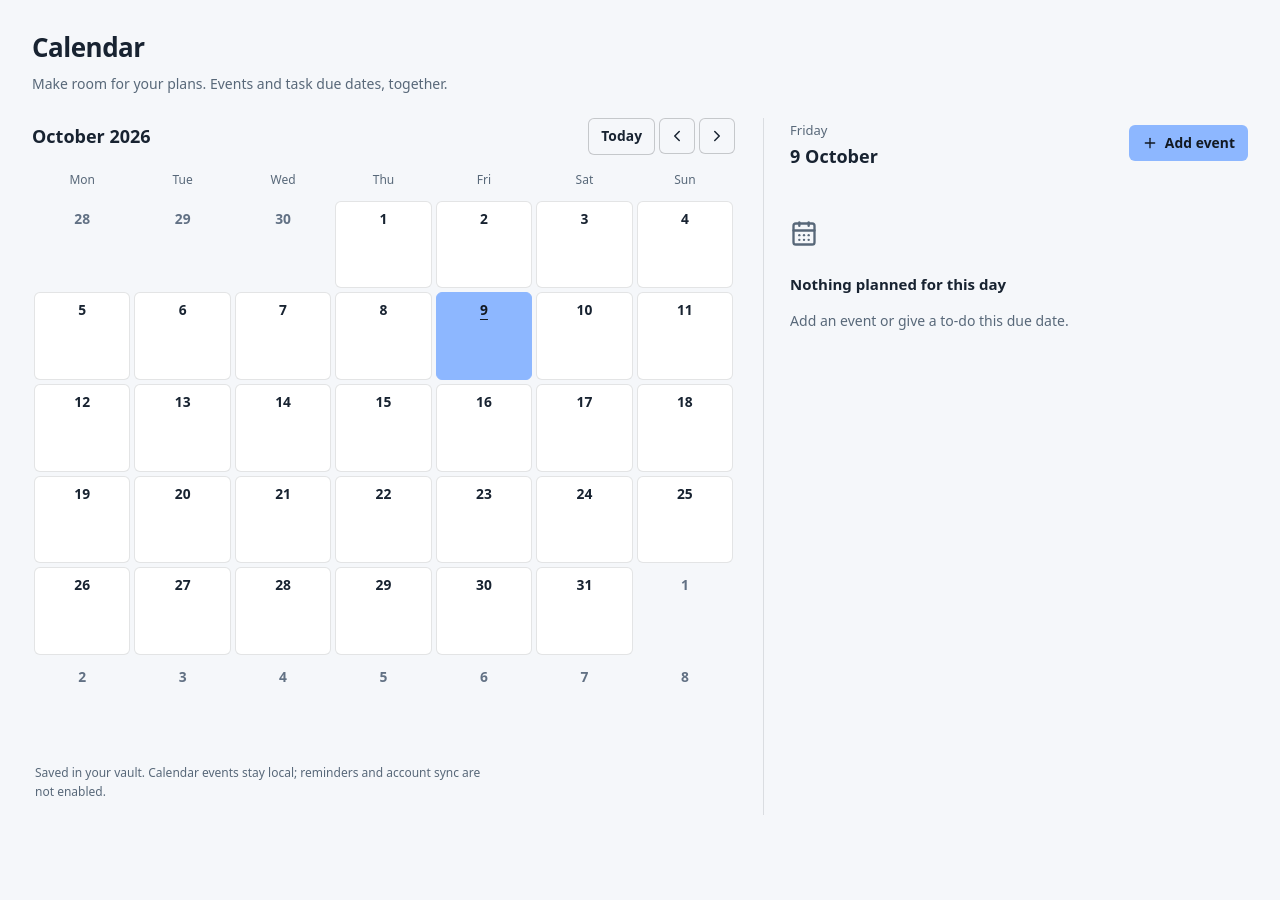
organizer workspace › validates event times and saves a useful calendar entry
Click the button "Add event".
click(1188, 143)  # box [1129,124,1248,161]
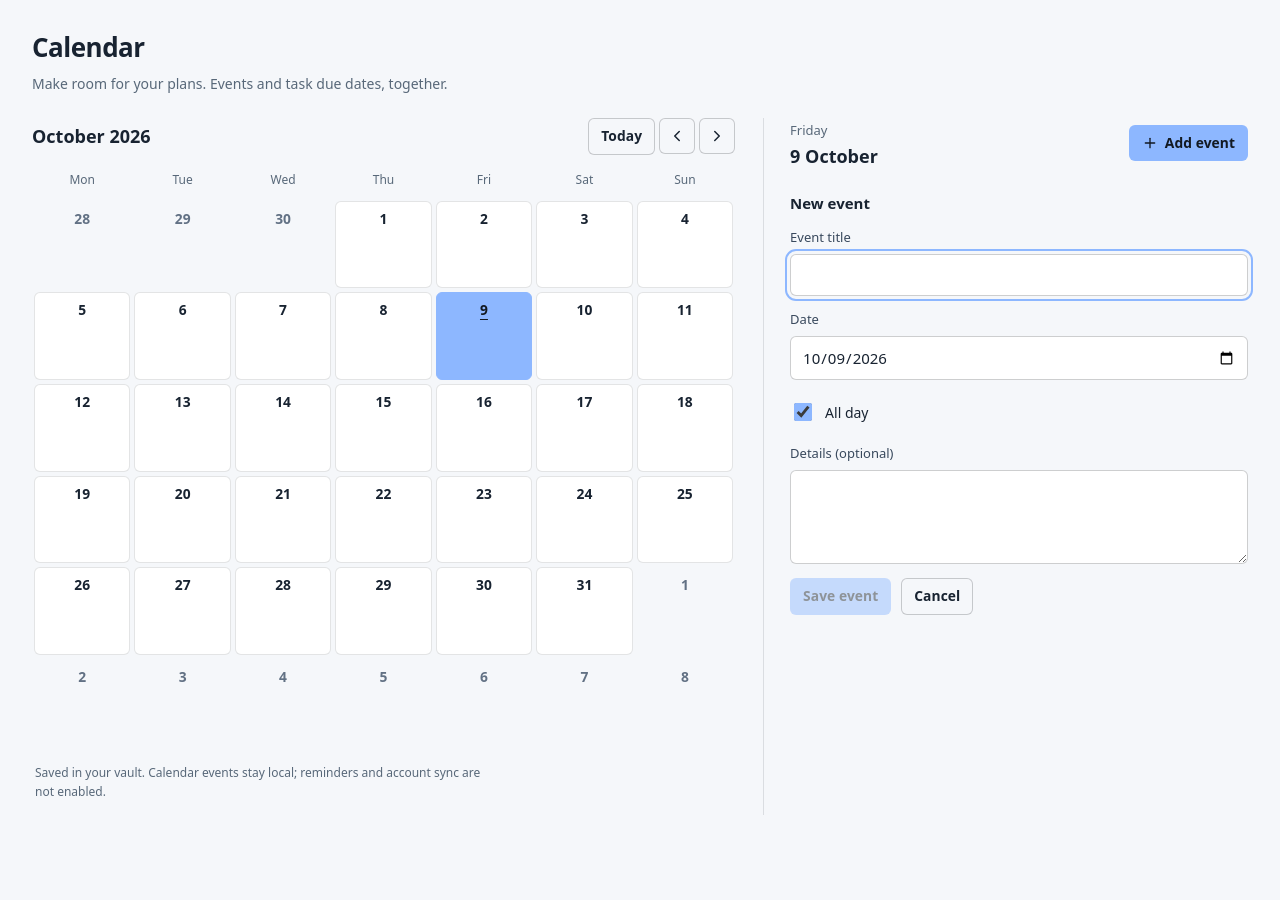
Type "Planning review" into the field labelled "Event title".
click(1019, 275); type("Planning review")  # box [790,254,1248,296]
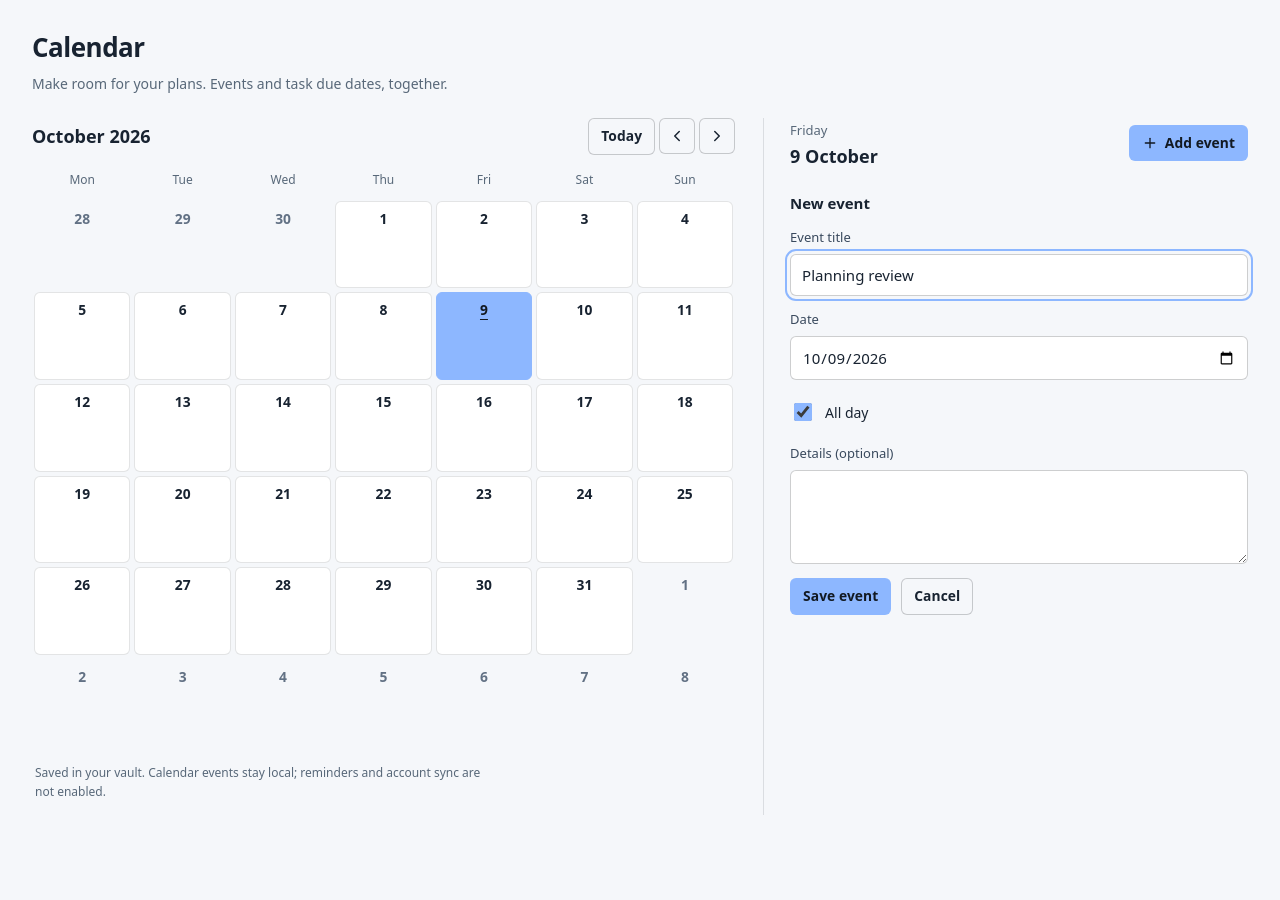
Click the checkbox labelled "All day".
click(803, 412)  # box [794,403,812,421]
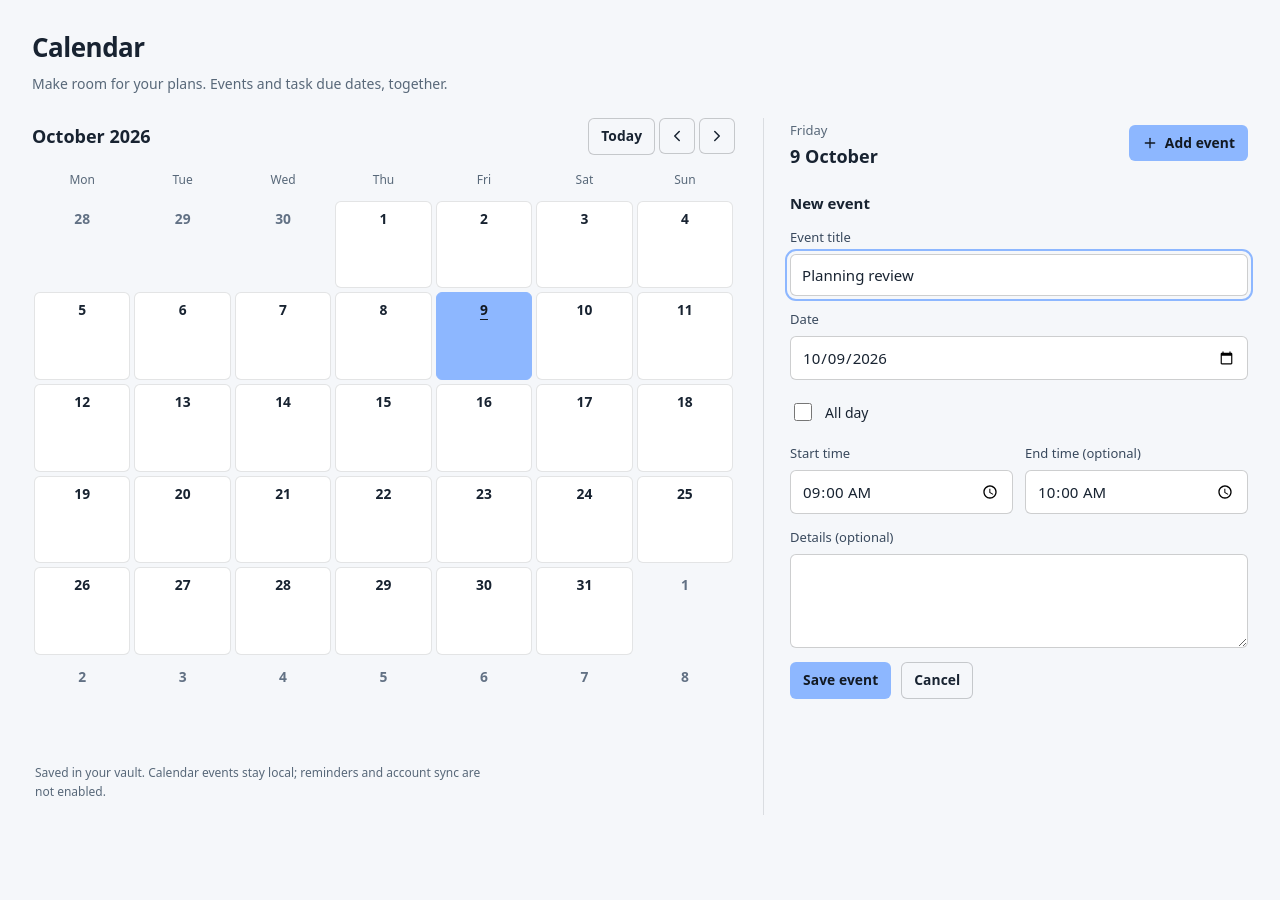
Replace the text in the time field labelled "End time (optional)" with "08:00" at (1136, 492), box [1025,470,1248,514]
Click the button "Save event".
click(841, 680)  # box [790,662,891,699]
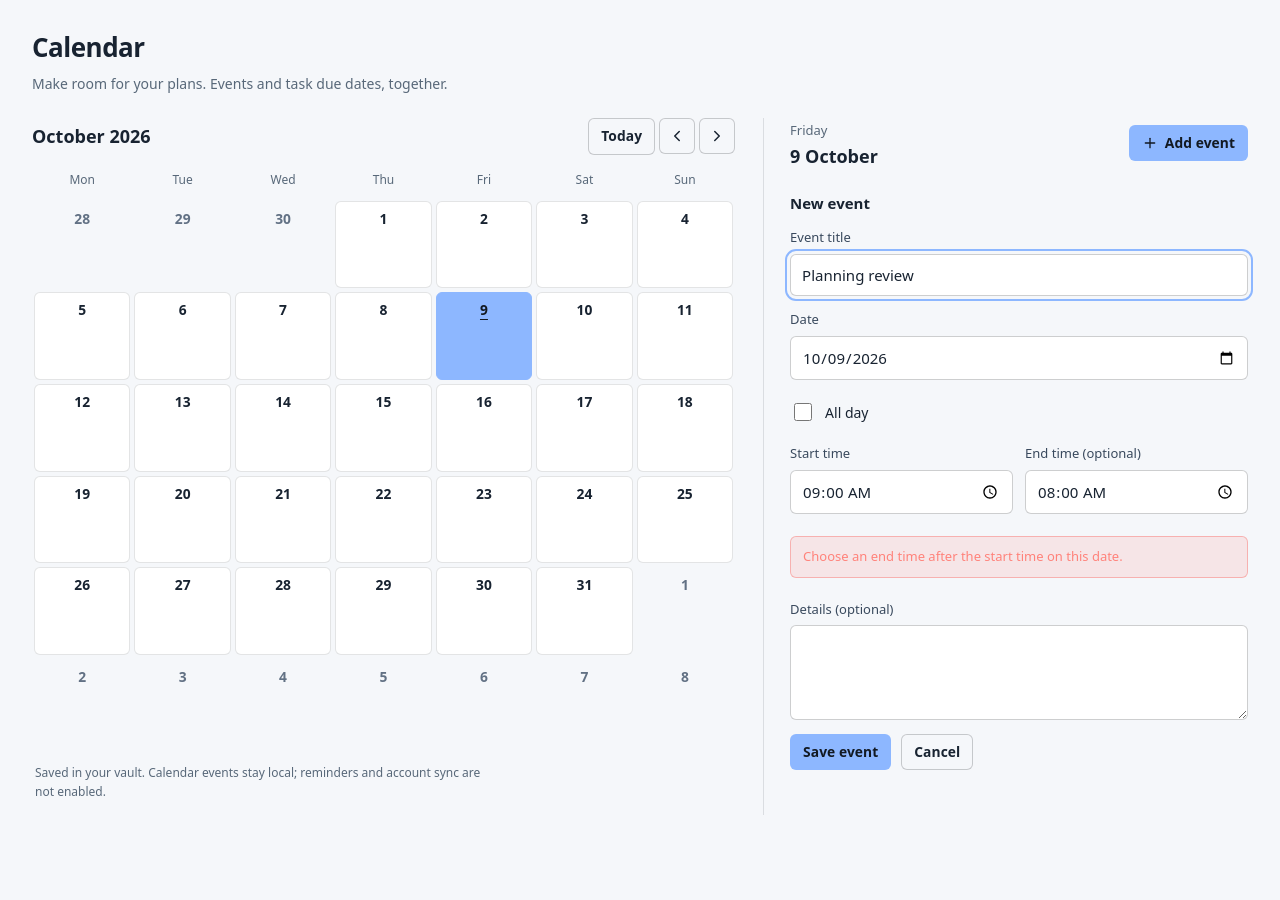
expect the message shows "after the start time": met, box [803,547,1123,565]
Replace the text in the time field labelled "End time (optional)" with "10:30" at (1136, 492), box [1025,470,1248,514]
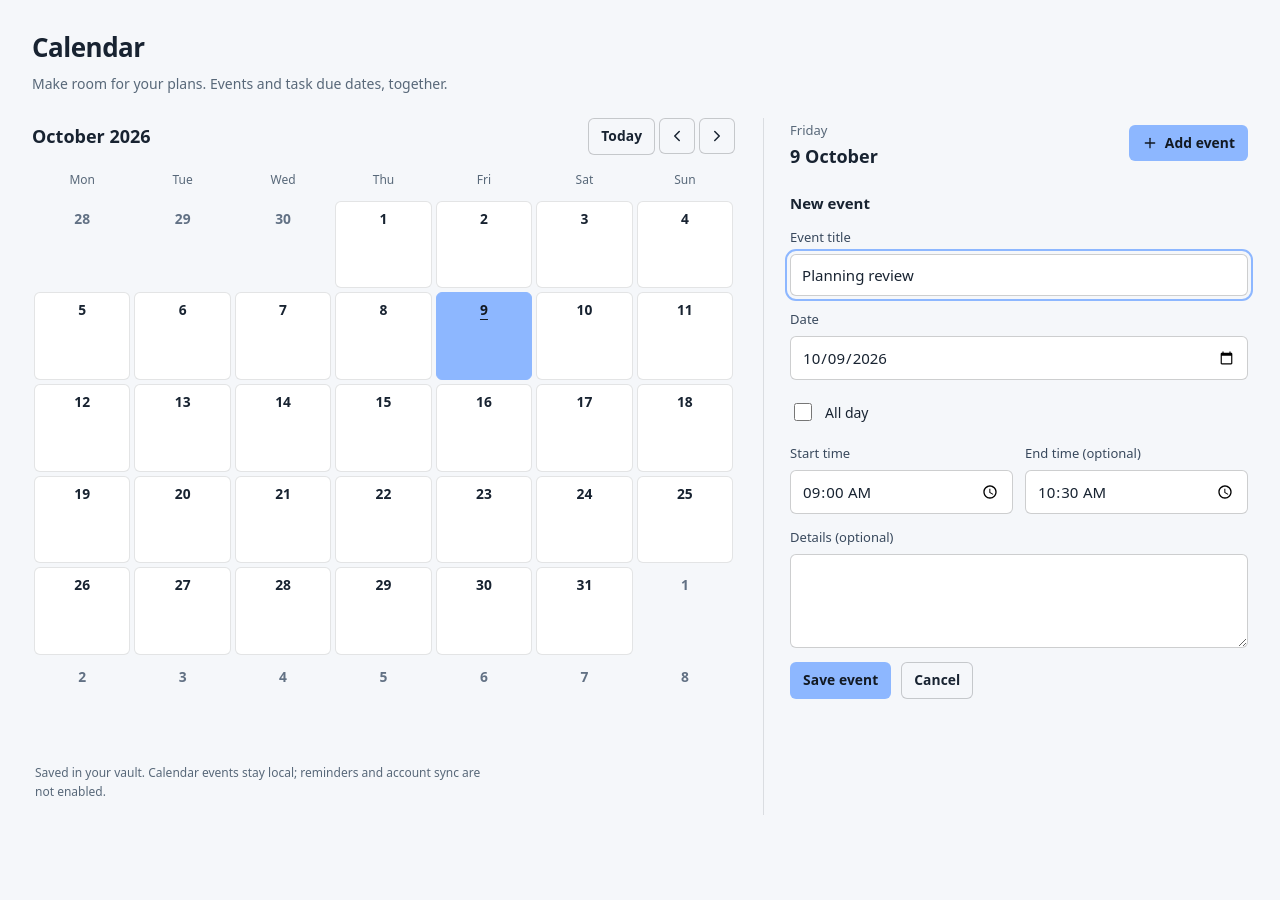
Click the button "Save event".
click(841, 680)  # box [790,662,891,699]
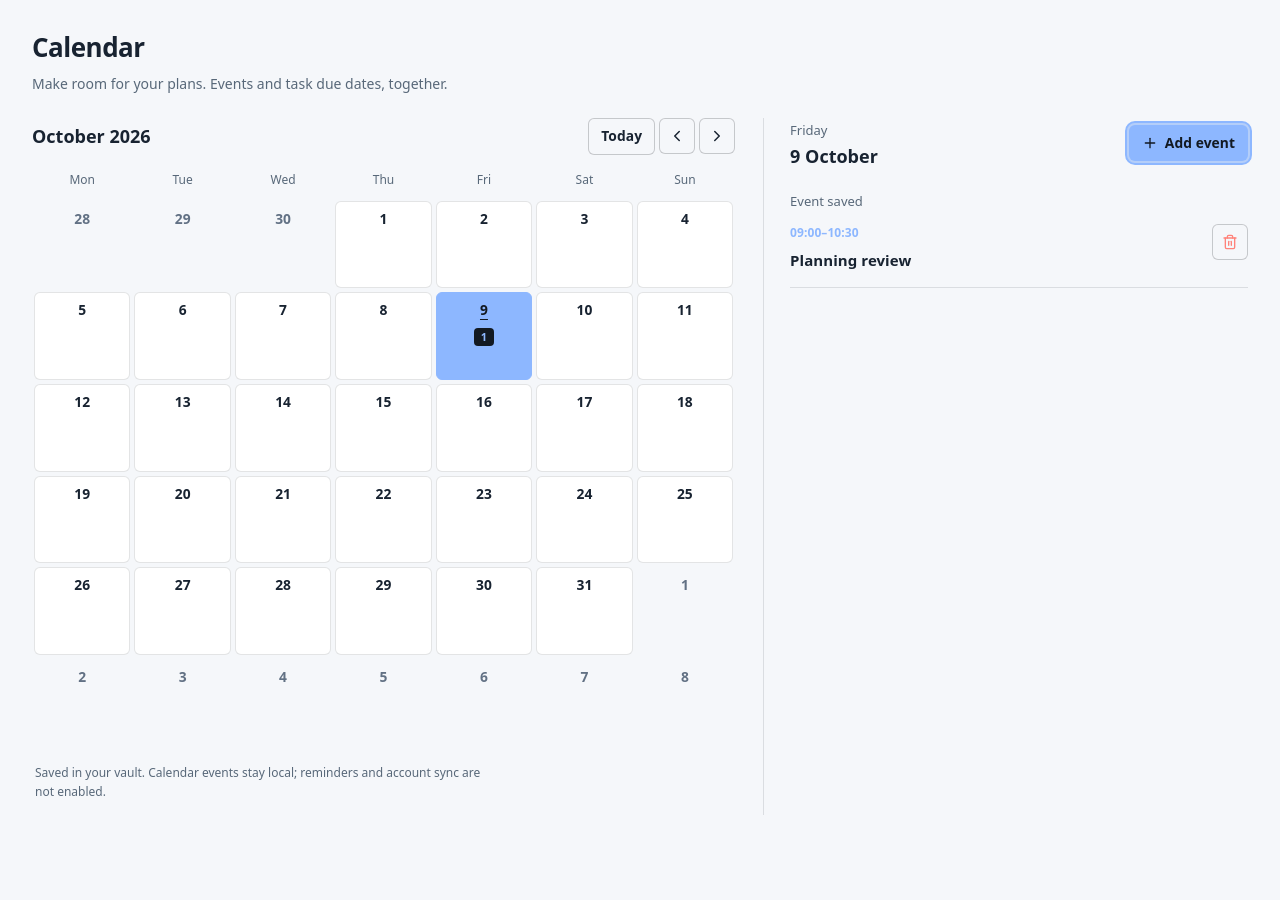
expect the button "09:00–10:30 Planning review" is shown: met, box [790,224,1207,272]
